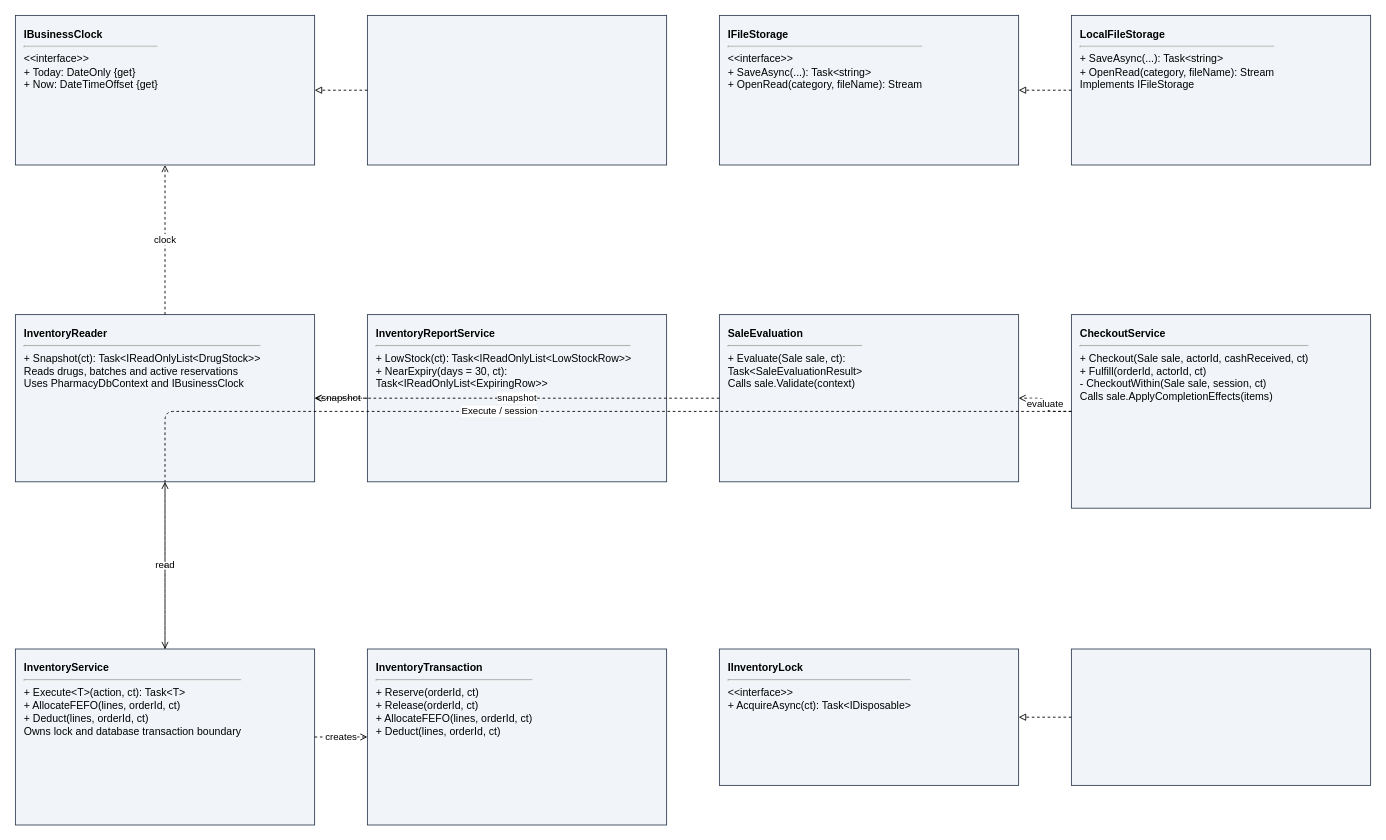
Some shapes in this 1386 by 840 pixel diagram are drawn without their labels. Each missing label, with the centre of its shape:
BusinessClock + Today: DateOnly + Now: DateTimeOffset Implements IBusinessClock: (x=517, y=90)
InventoryLock + AcquireAsync(ct): Task<IDisposable> SemaphoreSlim, one process: (x=1221, y=716)
